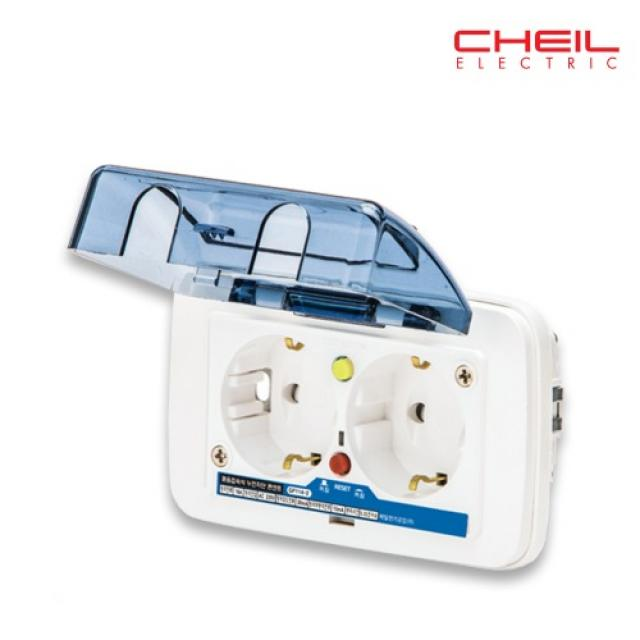typeb: (61, 146, 596, 617)
